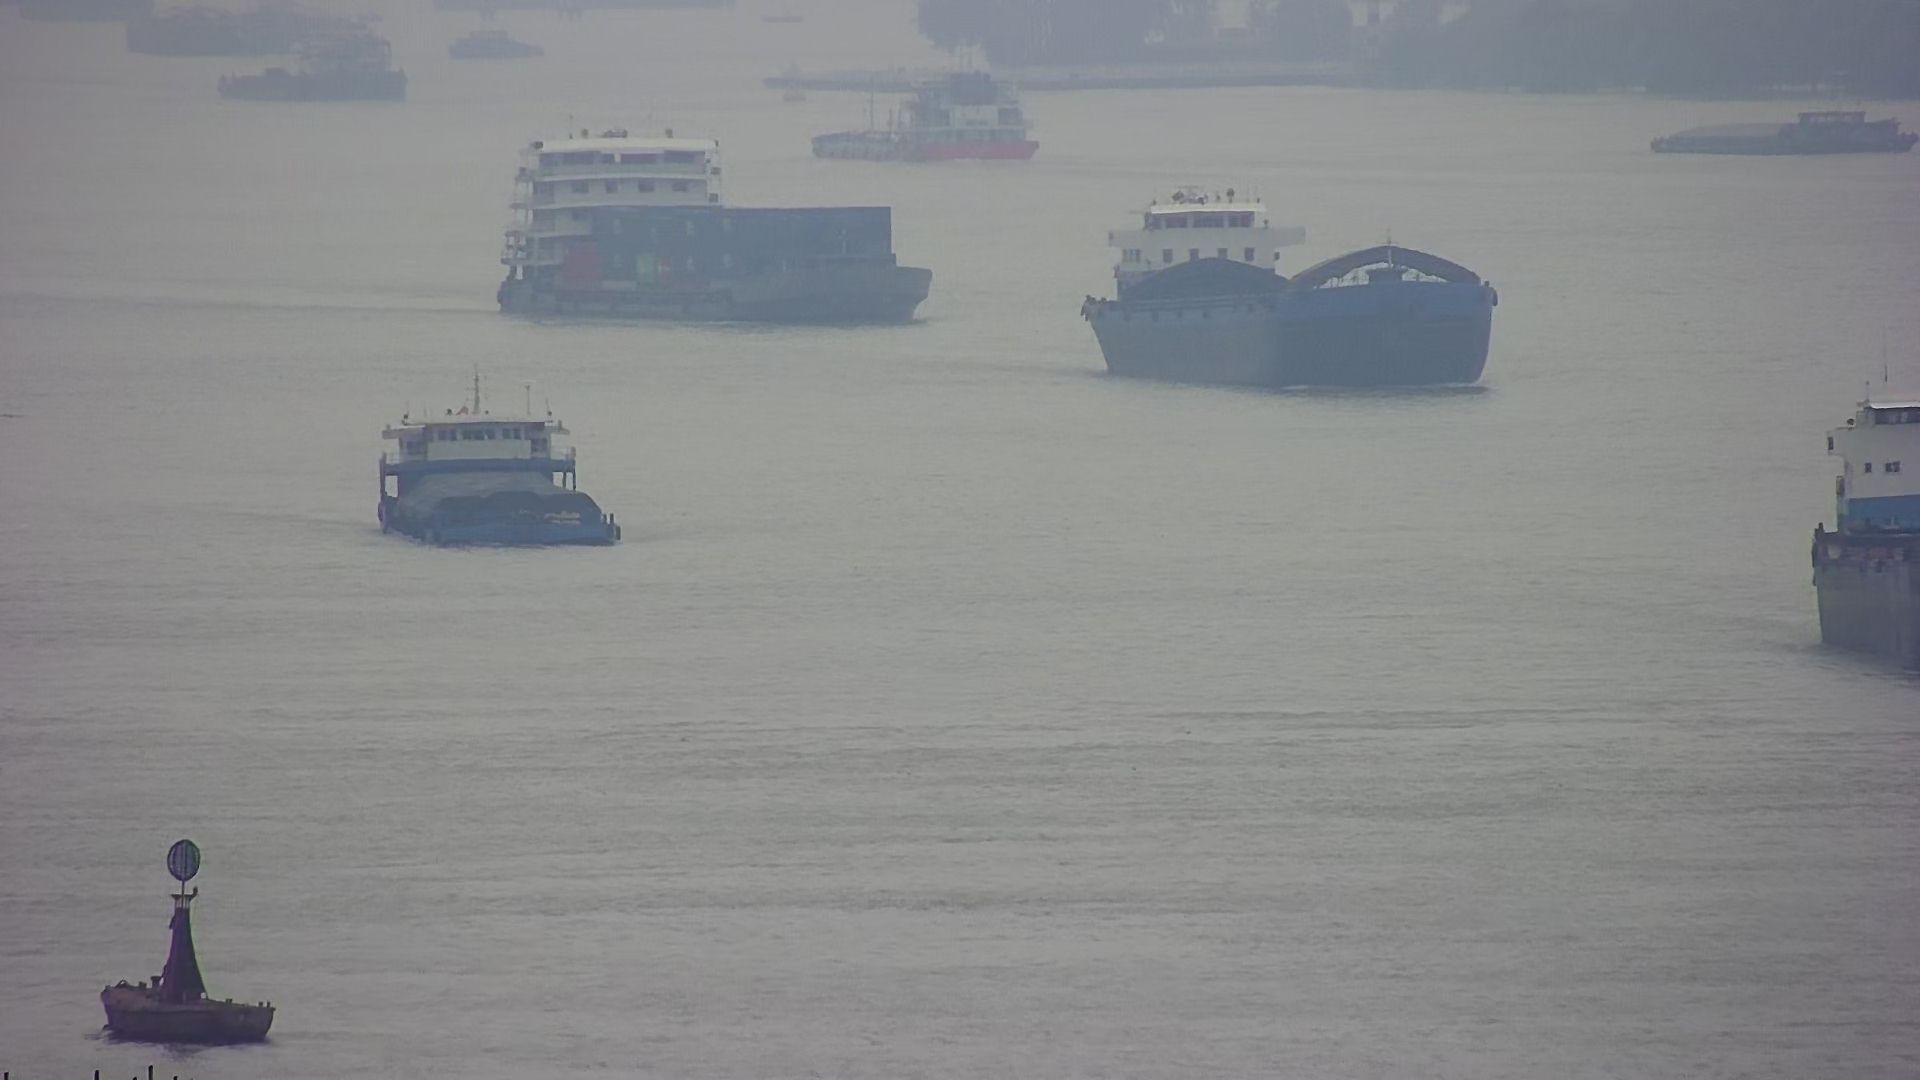boat: (96, 836, 274, 1044)
ship: (491, 127, 931, 327), (1087, 200, 1501, 396), (380, 382, 633, 547), (1808, 381, 1920, 679), (810, 70, 1042, 169), (1644, 109, 1913, 158)
